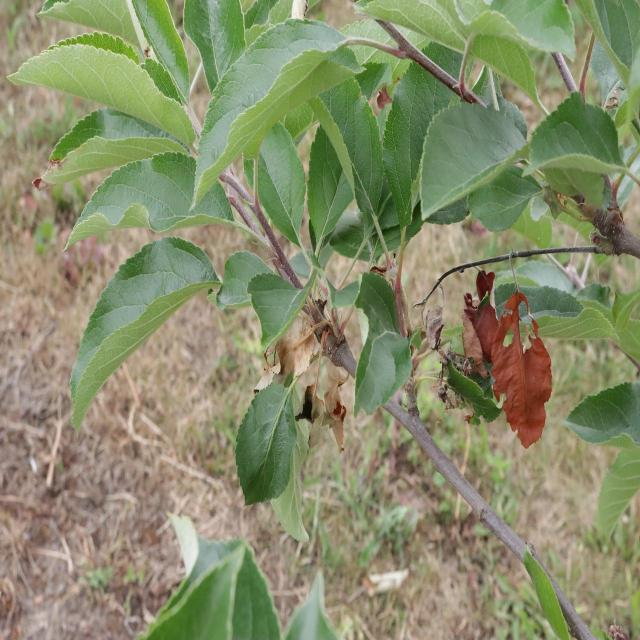-FireBlight-: (464, 259, 556, 449), (304, 351, 351, 435)
